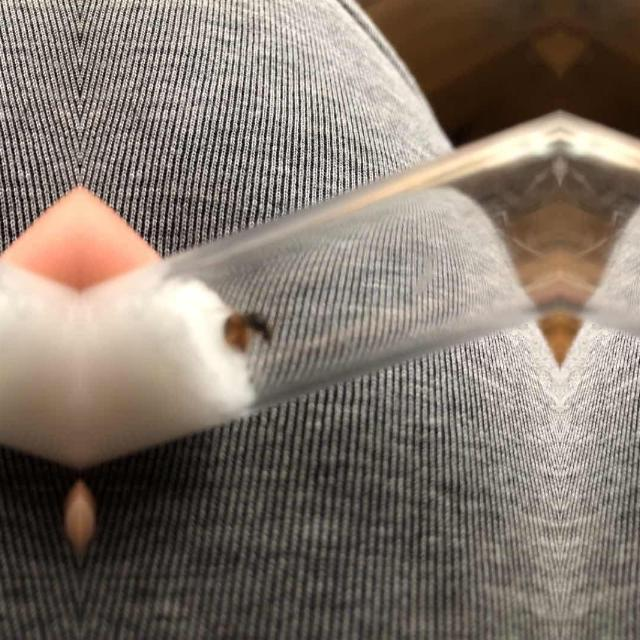Lasius: (213, 297, 273, 361)
